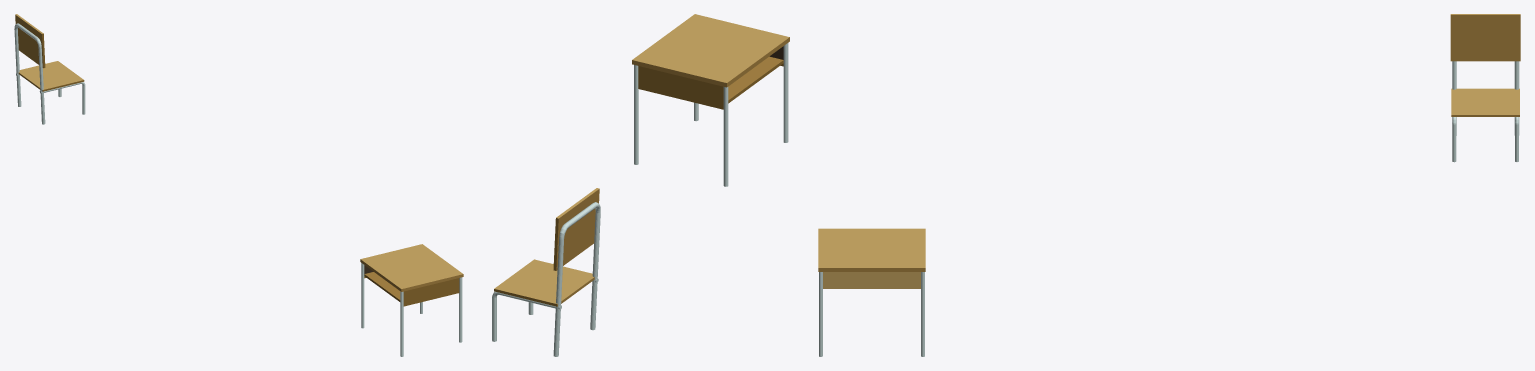
The model's file is dds.fbx.
3 renders of one model, left to right at view 1: azimuth 30°, elevation 25°; view 2: azimuth 150°, elevation 25°; view 3: azimuth 270°, elevation 25°, orthographic. The views are drawn at different scales.
Visible parts, largest first — view 1: Table, Chaise; view 2: Table, Chaise; view 3: Table, Chaise.
Boxes of the visible parts, bbox=[...] form: Table: bbox=[360, 244, 463, 356]; Chaise: bbox=[14, 14, 85, 124]; Table: bbox=[632, 14, 789, 186]; Chaise: bbox=[492, 188, 600, 356]; Table: bbox=[818, 228, 925, 356]; Chaise: bbox=[1450, 14, 1520, 162].
Bounding box in the file's own units: 458 × 421 × 1170.
